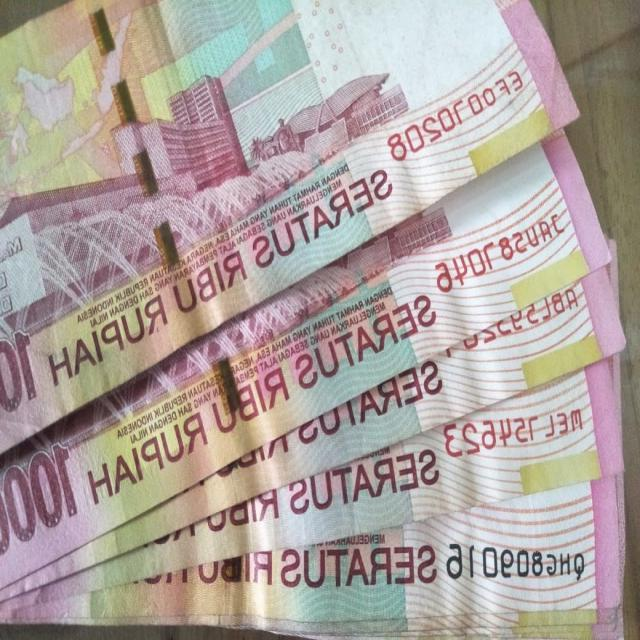seratus ribu rupiah: (0, 0, 640, 640), (0, 57, 238, 308)
